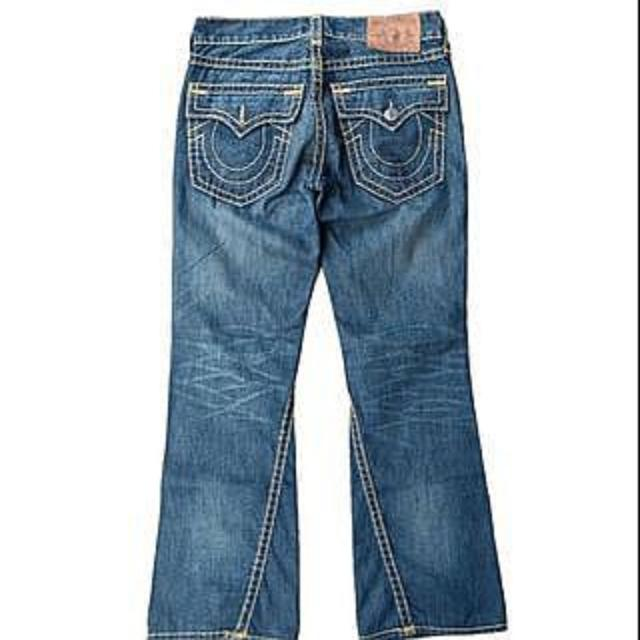TROUSER: (108, 2, 604, 640)
